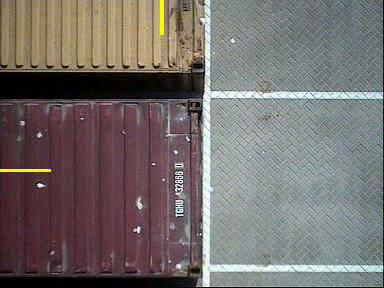groundmarker_2: (193, 137, 265, 254)
